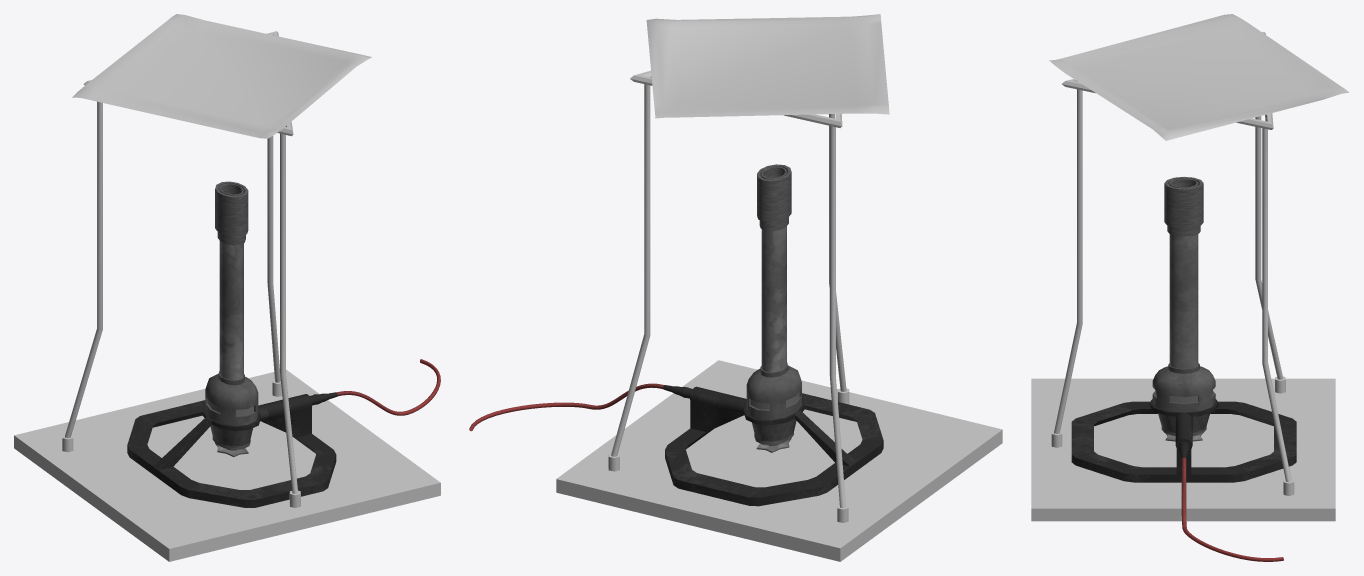
The model's file is bunsen.fbx.
The picture shows the model from 3 angles, left to right: view 1: azimuth 30°, elevation 25°; view 2: azimuth 150°, elevation 25°; view 3: azimuth 270°, elevation 25°; orthographic projection. The views are drawn at different scales.
Visible parts, largest first — view 1: heat_mat, tripod_with_wire_gauze, Bunsen_Burner, Pipe; view 2: heat_mat, tripod_with_wire_gauze, Bunsen_Burner, Pipe; view 3: heat_mat, tripod_with_wire_gauze, Bunsen_Burner, Pipe.
Boxes of the visible parts, left/top/right/bottom form: heat_mat: left=14, top=369, right=440, bottom=561; tripod_with_wire_gauze: left=62, top=14, right=371, bottom=507; Bunsen_Burner: left=127, top=181, right=337, bottom=507; Pipe: left=337, top=359, right=440, bottom=415; heat_mat: left=556, top=360, right=1002, bottom=561; tripod_with_wire_gauze: left=608, top=14, right=889, bottom=522; Bunsen_Burner: left=663, top=164, right=883, bottom=506; Pipe: left=469, top=383, right=663, bottom=431; heat_mat: left=1031, top=378, right=1335, bottom=521; tripod_with_wire_gauze: left=1049, top=14, right=1348, bottom=495; Bunsen_Burner: left=1071, top=176, right=1296, bottom=482; Pipe: left=1181, top=457, right=1283, bottom=561.
Size of the model in its own units: 132 by 129 by 97.07.
